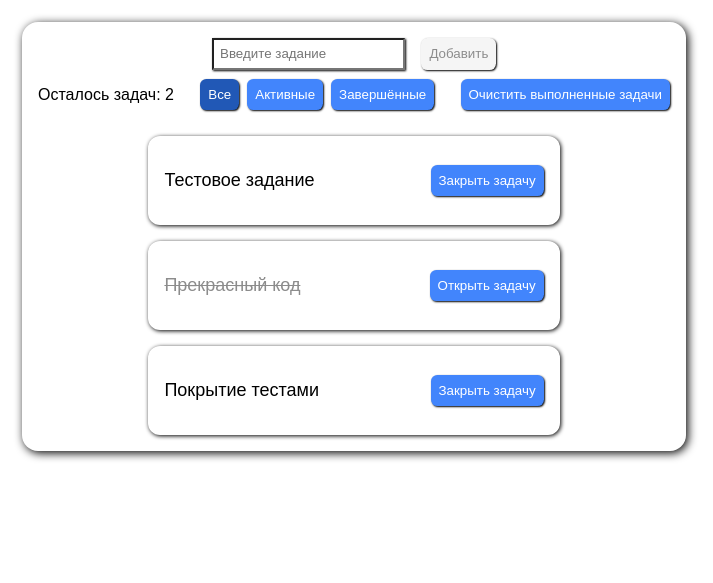
Tasks test › Testing adding a task
Expected: the text "Пройти на вакансию" is not shown
Type "Пройти на вакансию" into the field with placeholder "Введите задание" at x=309, y=54, box [212,38,406,70]
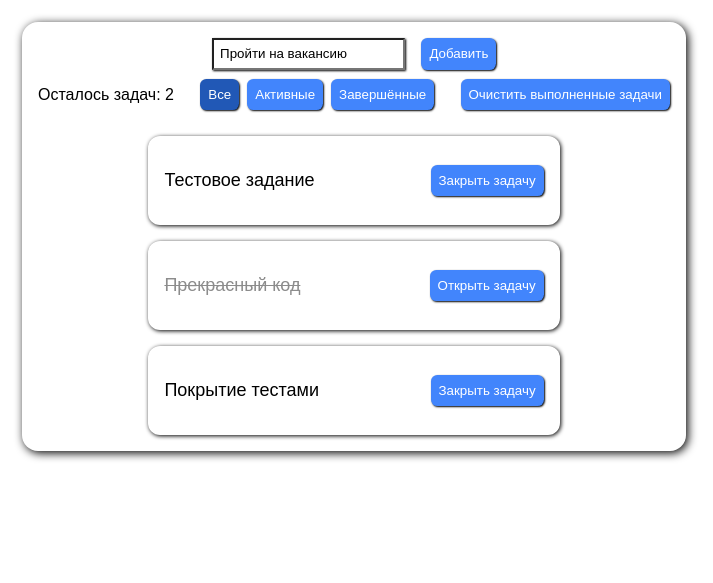
Click the button "Добавить" at x=459, y=54, box [421,38,496,70]
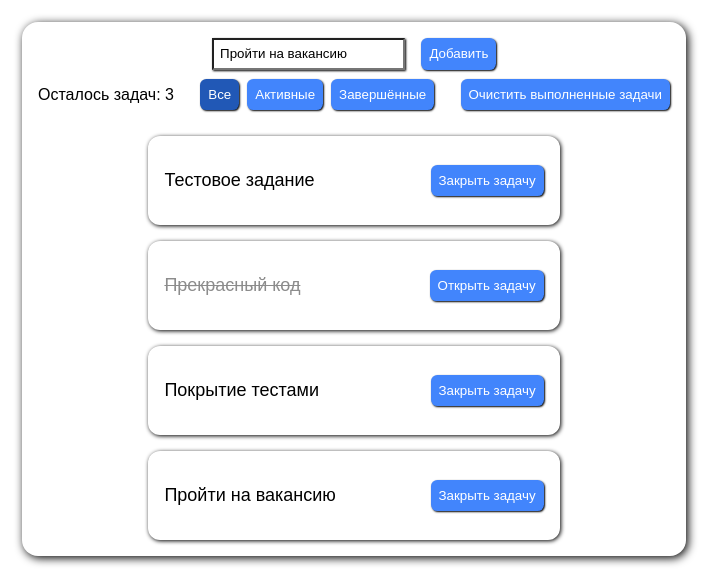
Result: the text "Пройти на вакансию" is shown at [164,485,336,506]
